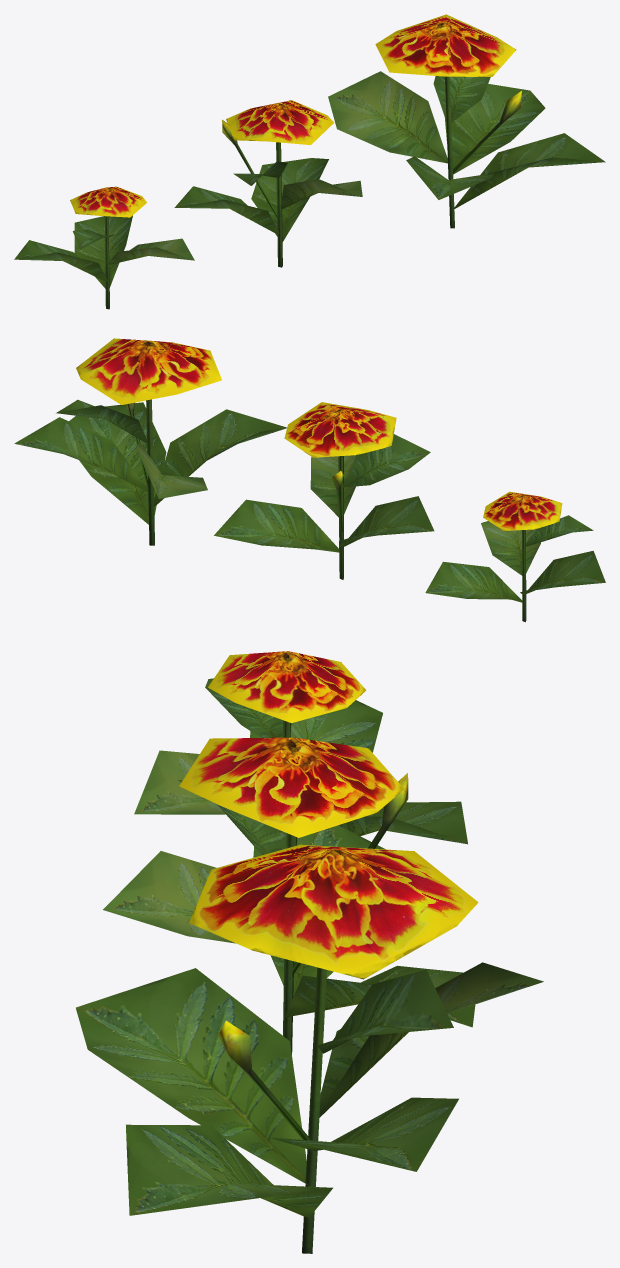
File: French marigold_m.FBX
3 renders of one model, top to bottom at view 1: azimuth 30°, elevation 25°; view 2: azimuth 150°, elevation 25°; view 3: azimuth 270°, elevation 25°, orthographic. The views are drawn at different scales.
Parts seen in each view (by area): view 1: French marigold, French marigold2, French marigold003; view 2: French marigold, French marigold2, French marigold003; view 3: French marigold, French marigold2, French marigold003.
Part boxes in pixels (x1,y1,x2,y2): French marigold: [328, 14, 605, 228]; French marigold2: [174, 100, 362, 267]; French marigold003: [14, 186, 194, 309]; French marigold: [14, 338, 286, 545]; French marigold2: [214, 402, 434, 579]; French marigold003: [425, 491, 605, 622]; French marigold: [76, 844, 543, 1253]; French marigold2: [103, 737, 475, 1054]; French marigold003: [134, 651, 467, 844].
Bounding box in the file's own units: 147 × 51.72 × 54.81.
